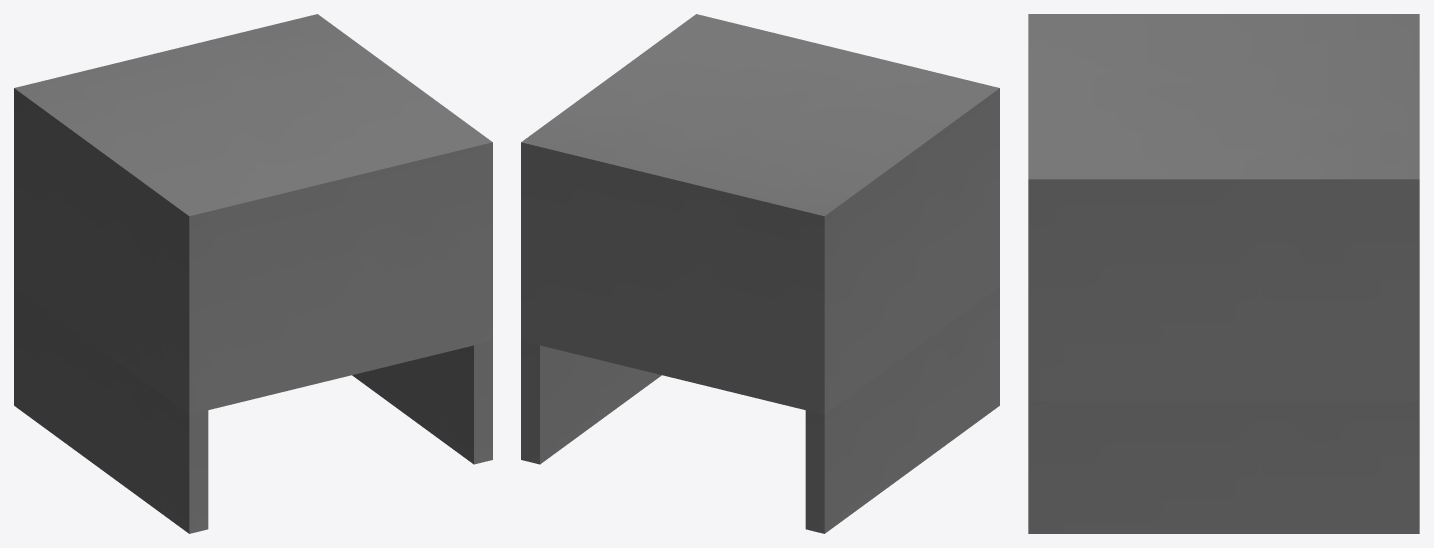
The model's file is dc_metro_roof_n1.obj.
The picture shows the model from 3 angles, left to right: view 1: azimuth 30°, elevation 25°; view 2: azimuth 150°, elevation 25°; view 3: azimuth 270°, elevation 25°; orthographic projection. The views are drawn at different scales.
Parts seen in each view (by area): view 1: cube; view 2: cube; view 3: cube.
Boxes of the visible parts, x1,y1,x2,y2 form: cube: (14, 14, 492, 533); cube: (521, 14, 999, 533); cube: (1028, 14, 1419, 533).
Bounding box in the file's own units: 1 × 1 × 1.
Materials: 1 (1 with a texture image).
